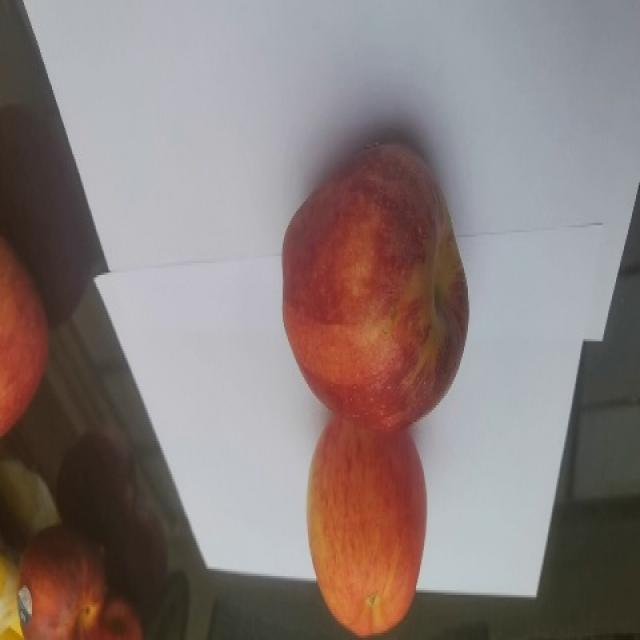Apple: (278, 135, 478, 429), (304, 400, 434, 640), (5, 513, 146, 640), (1, 229, 56, 430)
